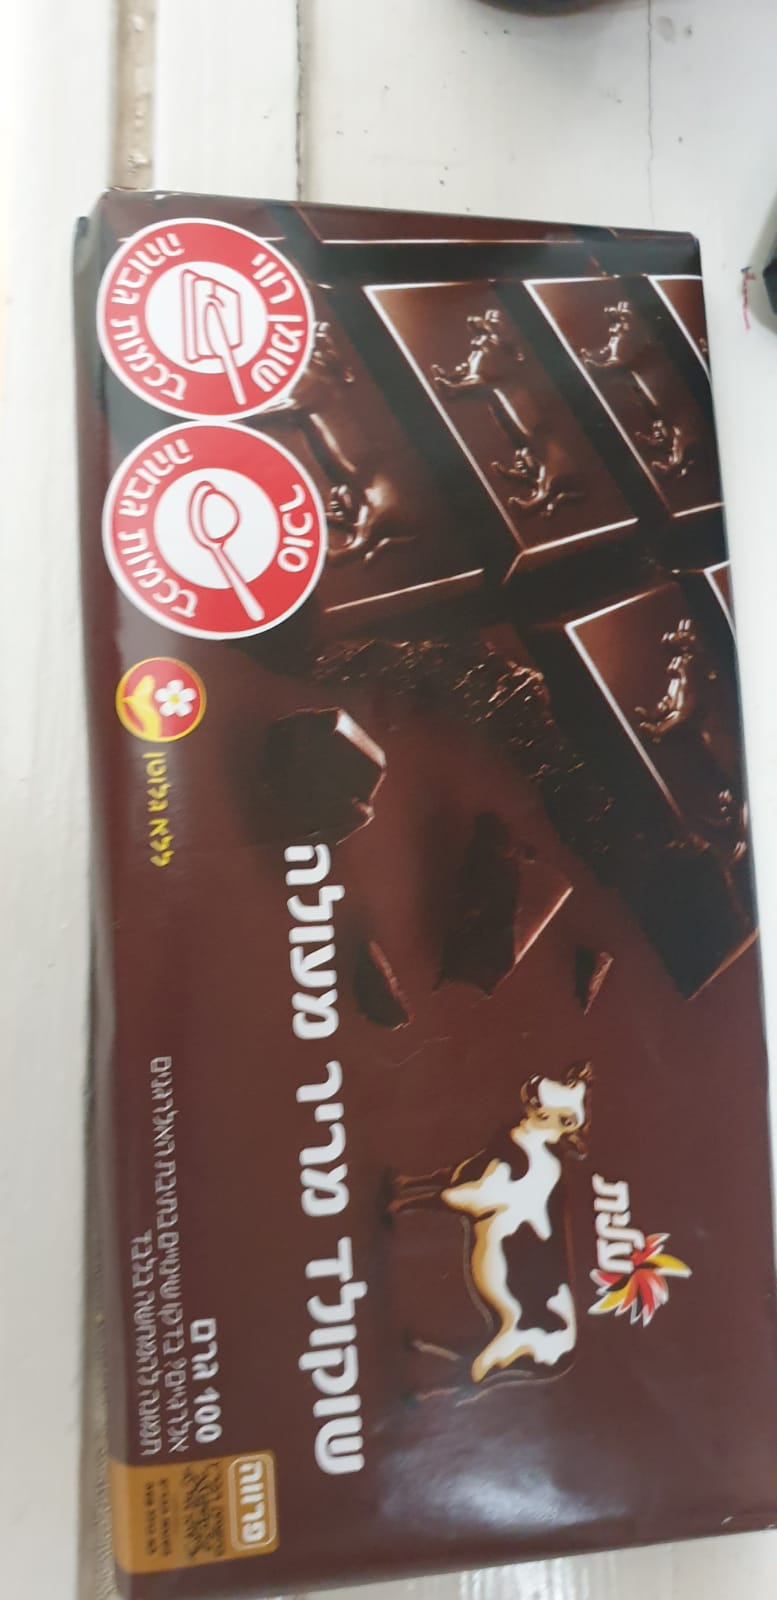fat: (95, 216, 312, 428)
sugar: (99, 421, 327, 641)
